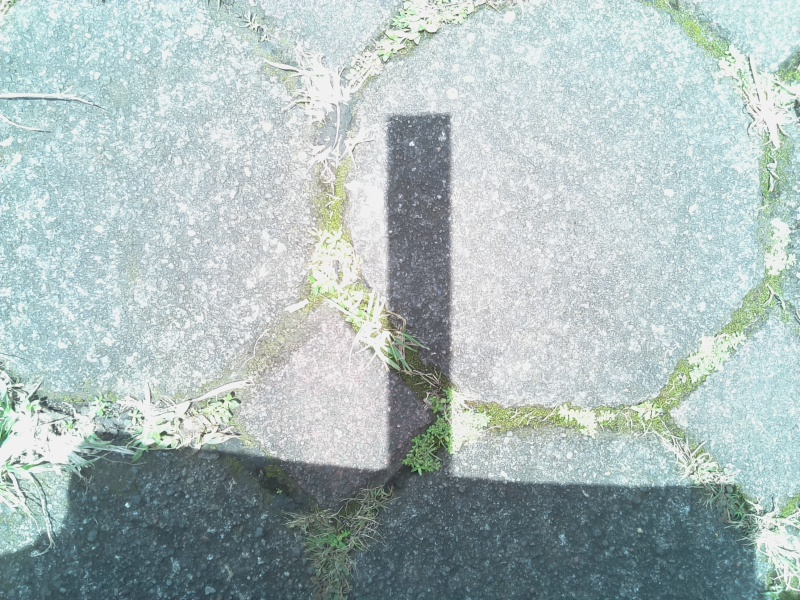Weed: (298, 227, 427, 382), (1, 363, 107, 536), (288, 482, 392, 598), (123, 391, 245, 454), (404, 389, 494, 468), (726, 54, 800, 150), (274, 46, 367, 120), (727, 499, 800, 593), (375, 1, 501, 51), (686, 329, 745, 385), (665, 446, 741, 489), (550, 396, 617, 441), (759, 215, 800, 282), (630, 396, 669, 432)
